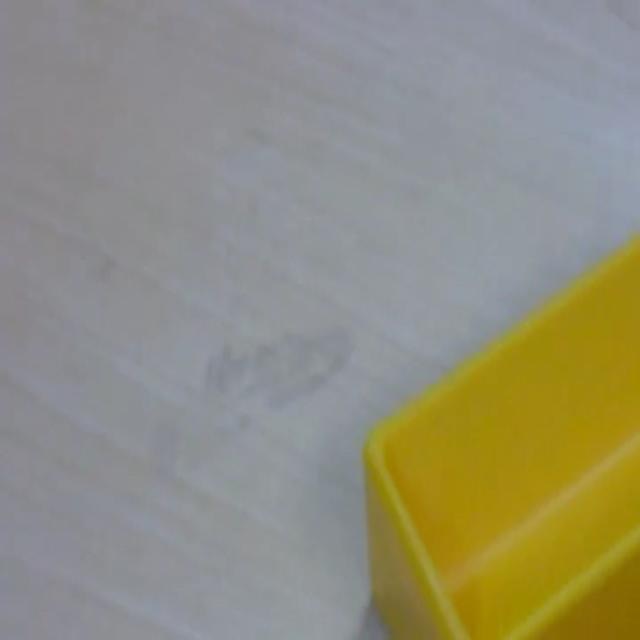yellow_block: (362, 232, 638, 637)
